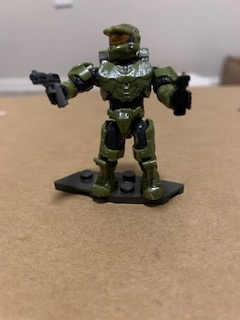chief: (46, 23, 192, 200)
pistol: (29, 69, 69, 114)
spartan: (44, 21, 190, 198)
